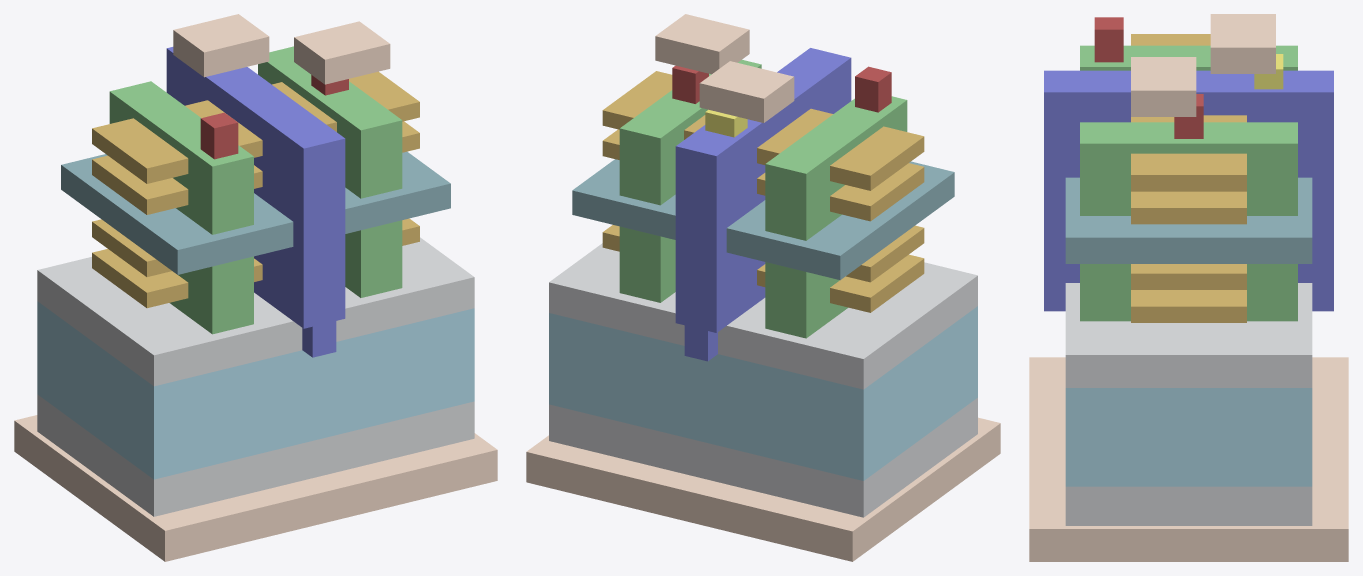
The model's file is simp_cfet.glb.
3 views of the same model, side by side, from view 1: azimuth 30°, elevation 25°; view 2: azimuth 150°, elevation 25°; view 3: azimuth 270°, elevation 25° (orthographic). The views are drawn at different scales.
Parts seen in each view (by area): view 1: pwell, fox, po, bm, bild, mdi, md_vdd, md_drnt, md_src, m0_d, m0_g, md_drnb (+7 smaller); view 2: pwell, fox, bm, po, bild, mdi, md_vdd, md_drnt, md_src, m0_g, m0_d, md_drnb (+9 smaller); view 3: pwell, bm, po, fox, md_drnt, mdi, bild, md_drnb, p_ws2, m0_d, m0_g, p_ws1 (+8 smaller).
Boxes of the visible parts, left/top/right/bottom form: pwell: left=37, top=301, right=474, bottom=479; fox: left=37, top=237, right=474, bottom=386; po: left=166, top=47, right=345, bottom=357; bm: left=14, top=415, right=497, bottom=561; bild: left=37, top=394, right=474, bottom=516; mdi: left=61, top=151, right=450, bottom=274; md_vdd: left=109, top=81, right=253, bottom=234; md_drnt: left=258, top=46, right=402, bottom=198; md_src: left=170, top=256, right=253, bottom=334; m0_d: left=294, top=21, right=390, bottom=84; m0_g: left=173, top=14, right=269, bottom=77; md_drnb: left=345, top=220, right=402, bottom=297; pwell: left=549, top=306, right=977, bottom=480; fox: left=549, top=243, right=977, bottom=389; bm: left=526, top=417, right=1000, bottom=561; po: left=675, top=48, right=851, bottom=361; bild: left=549, top=398, right=977, bottom=517; mdi: left=572, top=159, right=954, bottom=280; md_vdd: left=765, top=96, right=907, bottom=240; md_drnt: left=619, top=59, right=761, bottom=205; md_src: left=765, top=262, right=847, bottom=338; m0_g: left=699, top=61, right=794, bottom=122; m0_d: left=655, top=14, right=749, bottom=74; md_drnb: left=619, top=226, right=675, bottom=302; pwell: left=1065, top=388, right=1312, bottom=486; bm: left=1029, top=357, right=1348, bottom=561; po: left=1044, top=70, right=1333, bottom=311; fox: left=1065, top=283, right=1312, bottom=387; md_drnt: left=1080, top=122, right=1297, bottom=215; mdi: left=1065, top=177, right=1312, bottom=263; bild: left=1065, top=486, right=1312, bottom=525; md_drnb: left=1080, top=264, right=1297, bottom=321; p_ws2: left=1131, top=153, right=1246, bottom=191; m0_d: left=1131, top=57, right=1196, bottom=116; m0_g: left=1210, top=14, right=1275, bottom=73; p_ws1: left=1131, top=191, right=1246, bottom=224.
Bounding box in the file's own units: 112 × 134 × 88.
